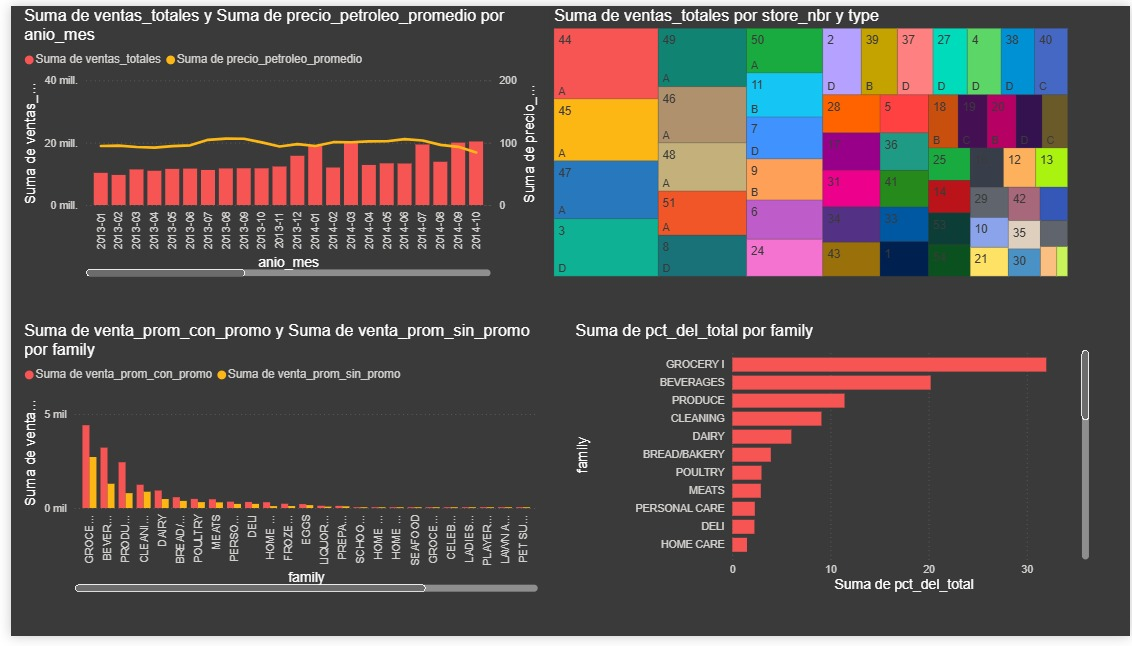

The dashboard page shown, as its layout file describes it:
{"tool":"powerbi","page":{"name":"Página 2","canvas":[1280,720],"ordinal":1},"visuals":[{"type":"lineClusteredColumnComboChart","fields":{"Y2":["Sum(public eda_correlacion_petroleo_ventas.precio_petroleo_promedio)"],"Y":["Sum(public eda_correlacion_petroleo_ventas.ventas_totales)"],"Category":["public eda_correlacion_petroleo_ventas.anio_mes"]},"box":[9.5,0,596.8,314],"z":0},{"type":"clusteredColumnChart","fields":{"Category":["public eda_impacto_promociones.family"],"Y":["Sum(public eda_impacto_promociones.venta_prom_con_promo)","Sum(public eda_impacto_promociones.venta_prom_sin_promo)"]},"box":[10,360,597.1,314.3],"z":1000},{"type":"treemap","fields":{"Group":["public eda_ranking_tiendas.store_nbr"],"Values":["Sum(public eda_ranking_tiendas.ventas_totales)"],"Details":["public eda_ranking_tiendas.type"]},"box":[616,0,597,314],"z":2000},{"type":"barChart","fields":{"Category":["public eda_ventas_por_familia.family"],"Y":["Sum(public eda_ventas_por_familia.pct_del_total)"]},"box":[640,360,597.1,314.3],"z":3000},{"type":"textbox","box":[10,314.3,597.1,45.7],"z":3001},{"type":"textbox","box":[607.1,314.3,605.7,45.7],"z":3002},{"type":"textbox","box":[31.4,674.3,1205.7,45.7],"z":3003}]}

Visuals, with their boxes in screenshot pixels (x1, y1, x2, y2), scaled from the page's 1280x720 canvas onto the 1132x646 screenshot:
lineClusteredColumnComboChart - Sum(public eda_correlacion_petroleo_ventas.precio_petroleo_promedio) x Sum(public eda_correlacion_petroleo_ventas.ventas_totales): [x1=8, y1=0, x2=536, y2=282]
clusteredColumnChart - public eda_impacto_promociones.family x Sum(public eda_impacto_promociones.venta_prom_con_promo): [x1=9, y1=323, x2=537, y2=605]
treemap - public eda_ranking_tiendas.store_nbr x Sum(public eda_ranking_tiendas.ventas_totales): [x1=545, y1=0, x2=1073, y2=282]
barChart - public eda_ventas_por_familia.family x Sum(public eda_ventas_por_familia.pct_del_total): [x1=566, y1=323, x2=1094, y2=605]
textbox: [x1=9, y1=282, x2=537, y2=323]
textbox: [x1=537, y1=282, x2=1073, y2=323]
textbox: [x1=28, y1=605, x2=1094, y2=645]
